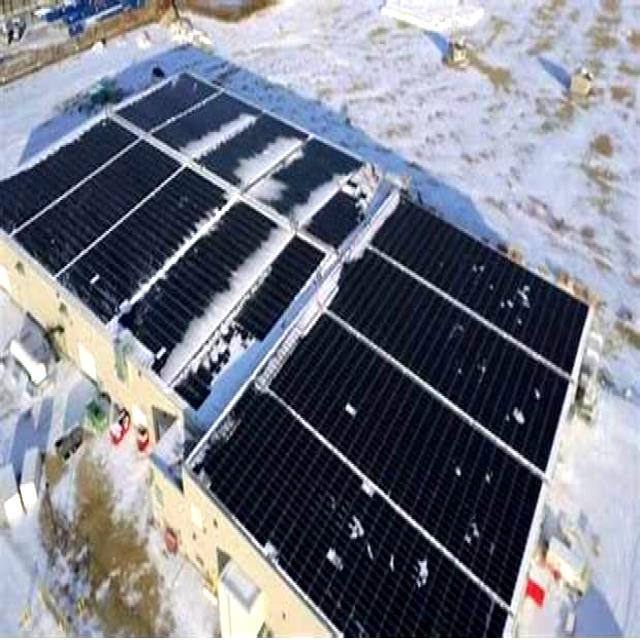panel: (309, 454, 437, 634), (154, 222, 276, 404), (440, 456, 516, 576), (455, 238, 547, 332), (466, 346, 550, 444), (306, 151, 394, 226), (231, 122, 295, 208), (183, 98, 255, 172), (334, 372, 384, 439)
